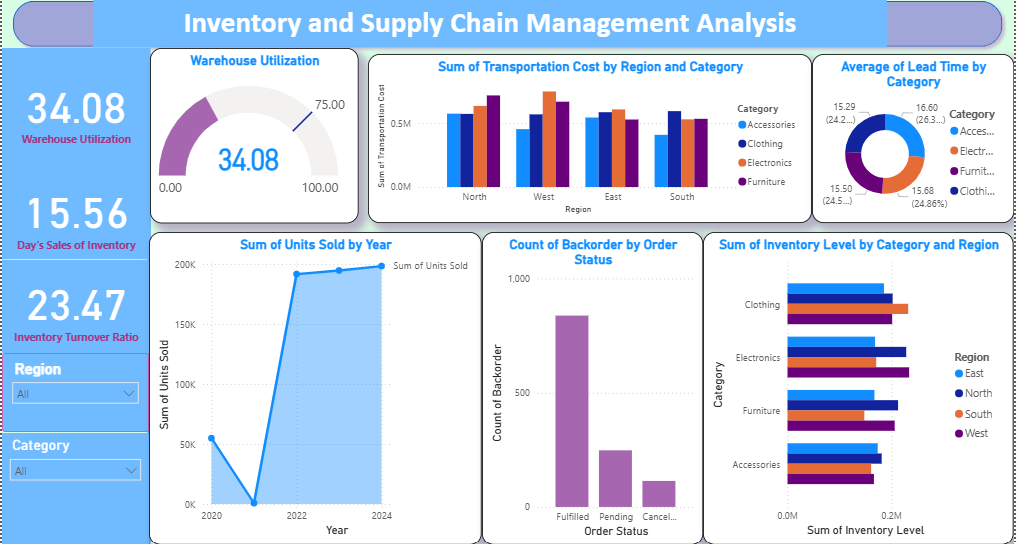

This screenshot's page, from the dashboard's own definition file:
{"tool":"powerbi","page":{"name":"Page 1","canvas":[1280,720],"ordinal":0},"visuals":[{"type":"shape","box":[5.7,22.7,1269.9,75.6],"z":0},{"type":"textbox","box":[115.3,30.2,1005.4,60.5],"z":1000},{"type":"shape","box":[0,98.8,372.4,621.8],"z":2000},{"type":"card","fields":{"Values":["inventory_supply chain data.Warehouse Utilization"]},"box":[0,90.7,187.8,155.4],"z":3000},{"type":"card","fields":{"Values":["inventory_supply chain data.Day's Sales of Inventory"]},"box":[0,246.1,187.8,113.3],"z":4000},{"type":"card","fields":{"Values":["inventory_supply chain data.Inventory Turnover Ratio"]},"box":[0,359.5,187.8,118.2],"z":5000},{"type":"slicer","fields":{"Values":["inventory_supply chain data.Region"]},"box":[0,477.7,186.2,100.4],"z":6000},{"type":"slicer","fields":{"Values":["inventory_supply chain data.Category"]},"box":[0,578.1,186.2,142.5],"z":7000},{"type":"gauge","fields":{"Y":["inventory_supply chain data.Warehouse Utilization"]},"box":[187.8,90.7,263.9,221.8],"z":8000},{"type":"clusteredColumnChart","fields":{"Category":["inventory_supply chain data.Region"],"Y":["Sum(inventory_supply chain data.Transportation Cost)"],"Series":["inventory_supply chain data.Category"]},"box":[463.1,98.8,561.9,213.7],"z":9000},{"type":"lineChart","fields":{"Y":["Sum(inventory_supply chain data.Units Sold)"],"Category":["inventory_supply chain data.Date.Variation.Date Hierarchy.Year"]},"box":[186.2,323.8,421,396.7],"z":10000},{"type":"donutChart","fields":{"Y":["Avg(inventory_supply chain data.Lead Time)"],"Category":["inventory_supply chain data.Category"]},"box":[1025,98.8,255.8,213.7],"z":11000},{"type":"columnChart","fields":{"Y":["CountNonNull(inventory_supply chain data.Backorder)"],"Category":["inventory_supply chain data.Order Status"]},"box":[607.2,323.8,280.1,396.7],"z":12000},{"type":"clusteredBarChart","fields":{"Category":["inventory_supply chain data.Category"],"Series":["inventory_supply chain data.Region"],"Y":["Sum(inventory_supply chain data.Inventory Level)"]},"box":[887.3,323.8,393.5,396.7],"z":13000},{"type":"actionButton","box":[0,0,200,50],"z":14000}]}

Visuals, with their boxes in screenshot pixels (x1, y1, x2, y2):
shape: (0, 0, 1014, 52)
textbox: (87, 0, 890, 46)
shape: (0, 52, 292, 543)
card - inventory_supply chain data.Warehouse Utilization: (0, 46, 145, 170)
card - inventory_supply chain data.Day's Sales of Inventory: (0, 170, 145, 261)
card - inventory_supply chain data.Inventory Turnover Ratio: (0, 261, 145, 355)
slicer - inventory_supply chain data.Region: (0, 355, 144, 436)
slicer - inventory_supply chain data.Category: (0, 436, 144, 543)
gauge - inventory_supply chain data.Warehouse Utilization: (145, 46, 356, 223)
clusteredColumnChart - inventory_supply chain data.Region x Sum(inventory_supply chain data.Transportation Cost): (365, 52, 814, 223)
lineChart - Sum(inventory_supply chain data.Units Sold) x inventory_supply chain data.Date.Variation.Date Hierarchy.Year: (144, 232, 480, 543)
donutChart - Avg(inventory_supply chain data.Lead Time) x inventory_supply chain data.Category: (814, 52, 1016, 223)
columnChart - CountNonNull(inventory_supply chain data.Backorder) x inventory_supply chain data.Order Status: (480, 232, 704, 543)
clusteredBarChart - inventory_supply chain data.Category x inventory_supply chain data.Region: (704, 232, 1016, 543)
actionButton: (0, 0, 155, 13)
